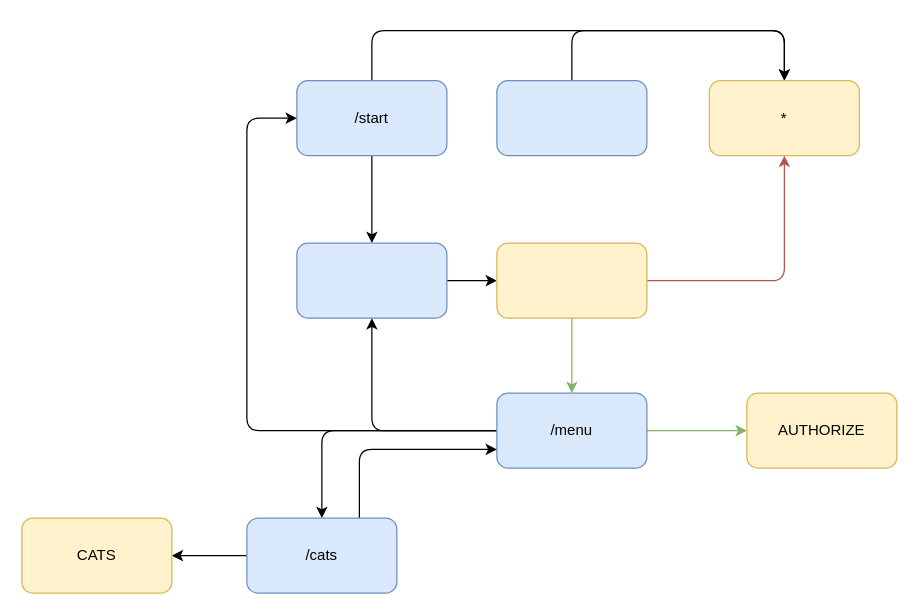
Image size: 919x615. Some labels were removed from this diagram. Here are the shapes that lost their labels. From the top down, the centre of each, then its label:
At point (571, 117): "/help".
At point (371, 280): "/registered".
At point (571, 280): "REGISTRATION".
